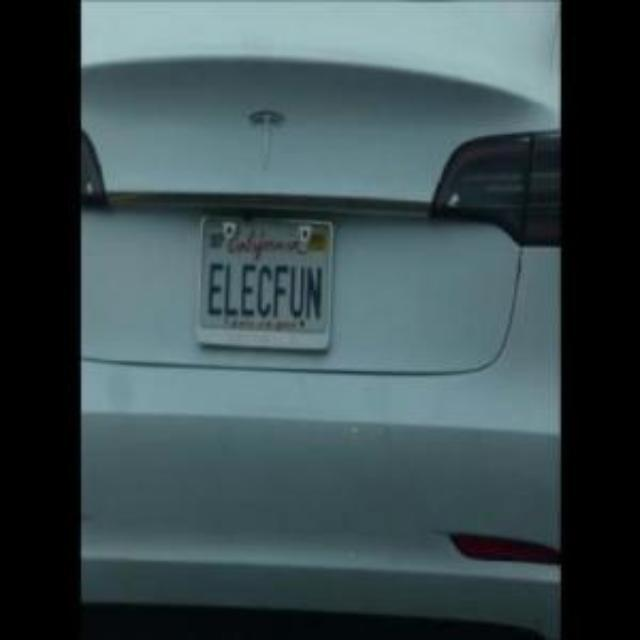License Plate: (201, 215, 335, 353)
